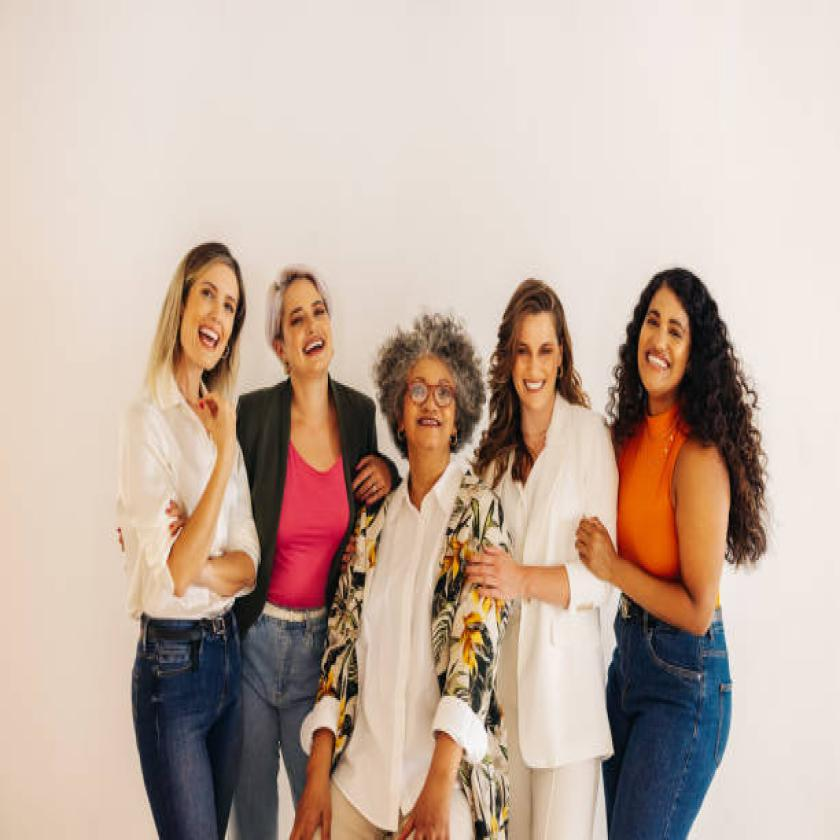Sin_casco: (614, 238, 767, 452), (377, 279, 483, 481), (154, 195, 247, 424), (494, 246, 583, 431), (261, 246, 352, 399)
